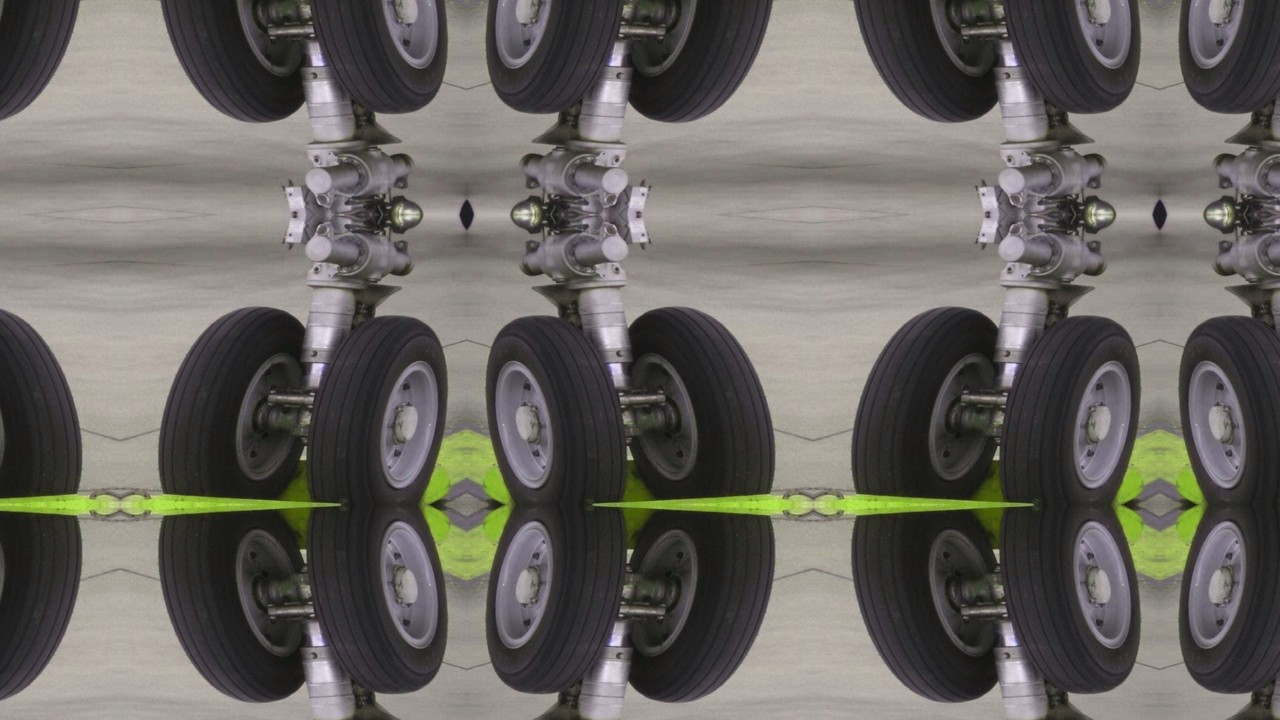wheel: (146, 305, 318, 504), (615, 305, 787, 504), (840, 305, 1012, 504), (146, 506, 318, 705), (615, 506, 787, 705), (840, 506, 1012, 705), (300, 315, 455, 505), (478, 315, 633, 505), (994, 315, 1149, 505), (300, 505, 455, 695), (478, 505, 633, 695), (994, 505, 1149, 695), (146, 0, 318, 124), (615, 0, 787, 124), (840, 0, 1012, 124), (1172, 315, 1280, 505), (1172, 505, 1280, 695), (0, 305, 93, 504), (0, 506, 93, 705), (300, 0, 455, 114), (478, 0, 633, 114), (994, 0, 1149, 114), (1172, 0, 1280, 114), (0, 0, 93, 124)
